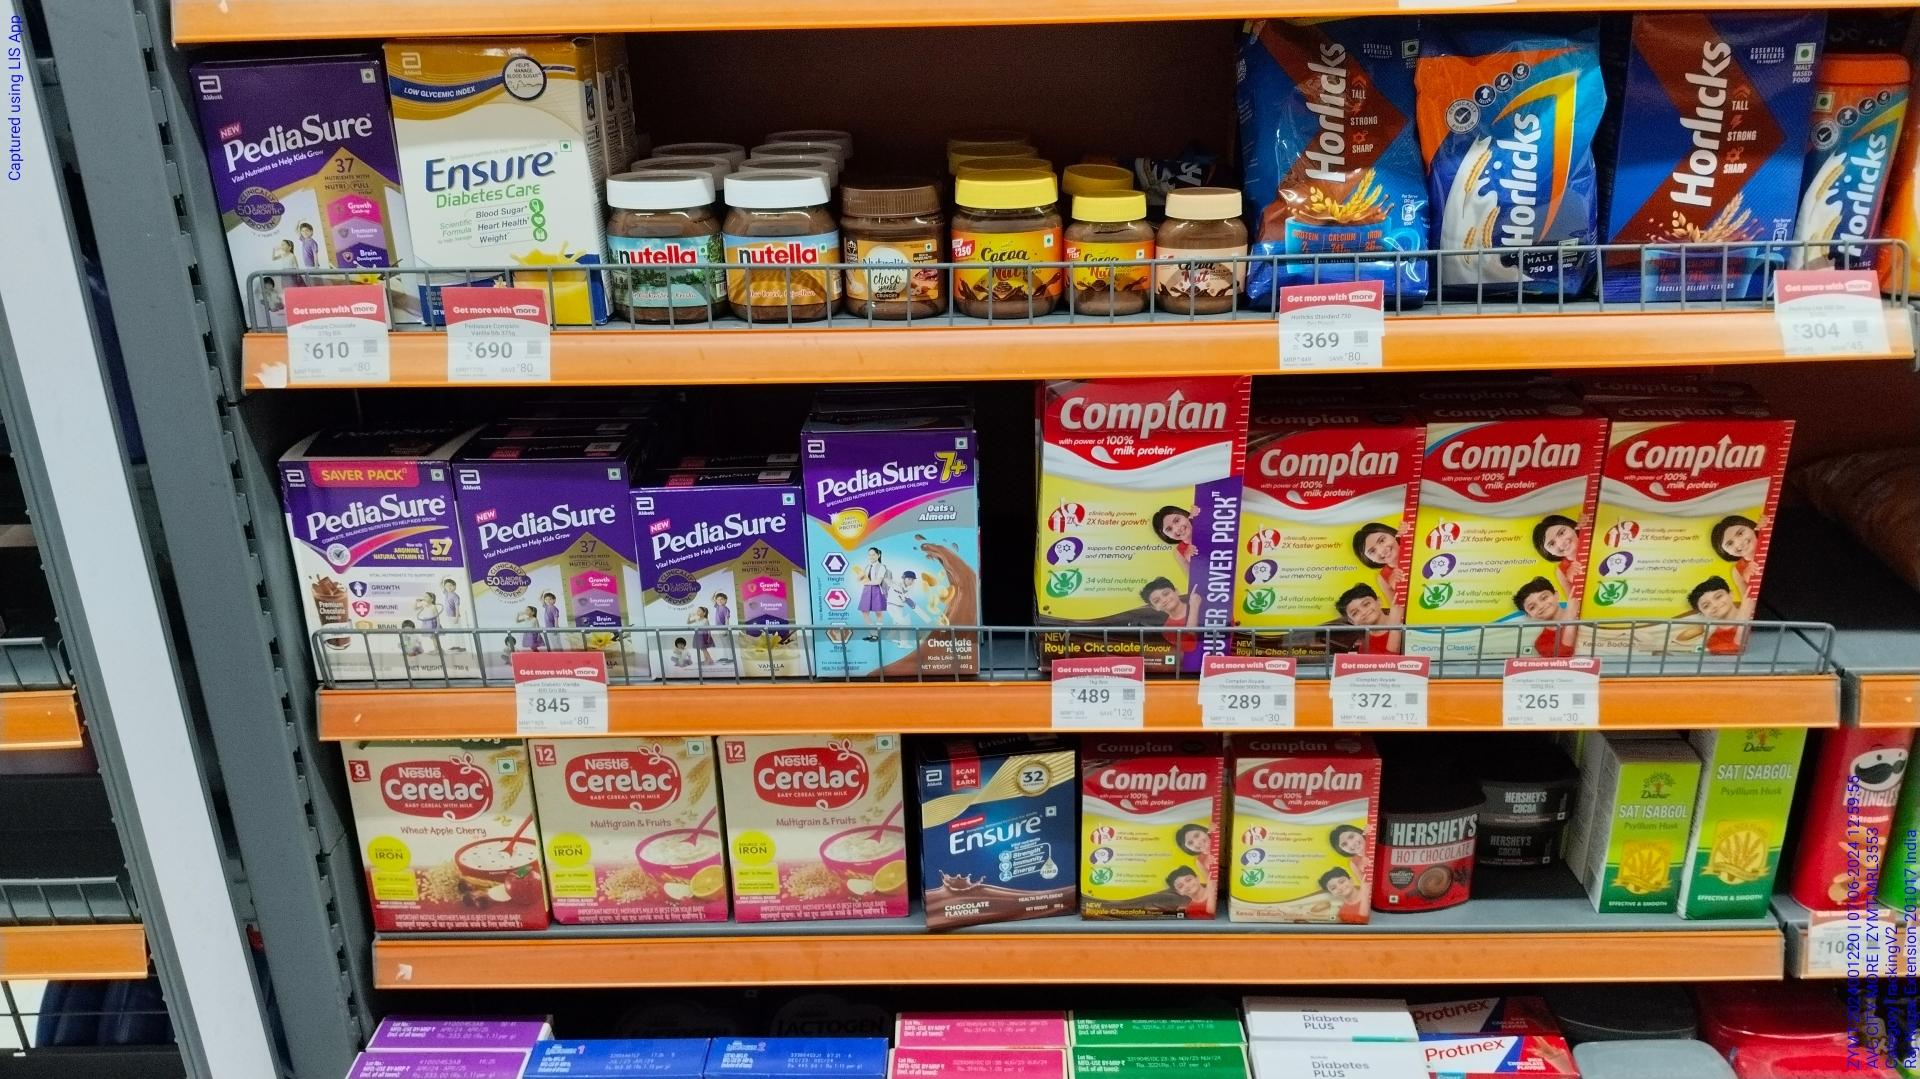PEDIASURE_7_PLUS_CHOCOLATE_400_G_PACK: (806, 431, 978, 675)
PEDIASURE_CHOCOLATE_500_G_PACK: (295, 452, 451, 681)
PEDIASURE_VANILLA_500_G_PACK: (477, 452, 628, 687), (637, 484, 811, 678)
